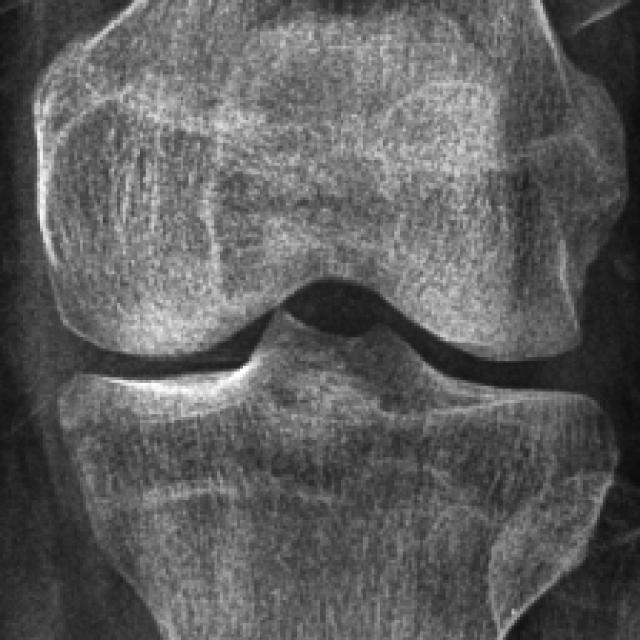femur: (32, 0, 629, 362)
tibia: (66, 314, 617, 640)
